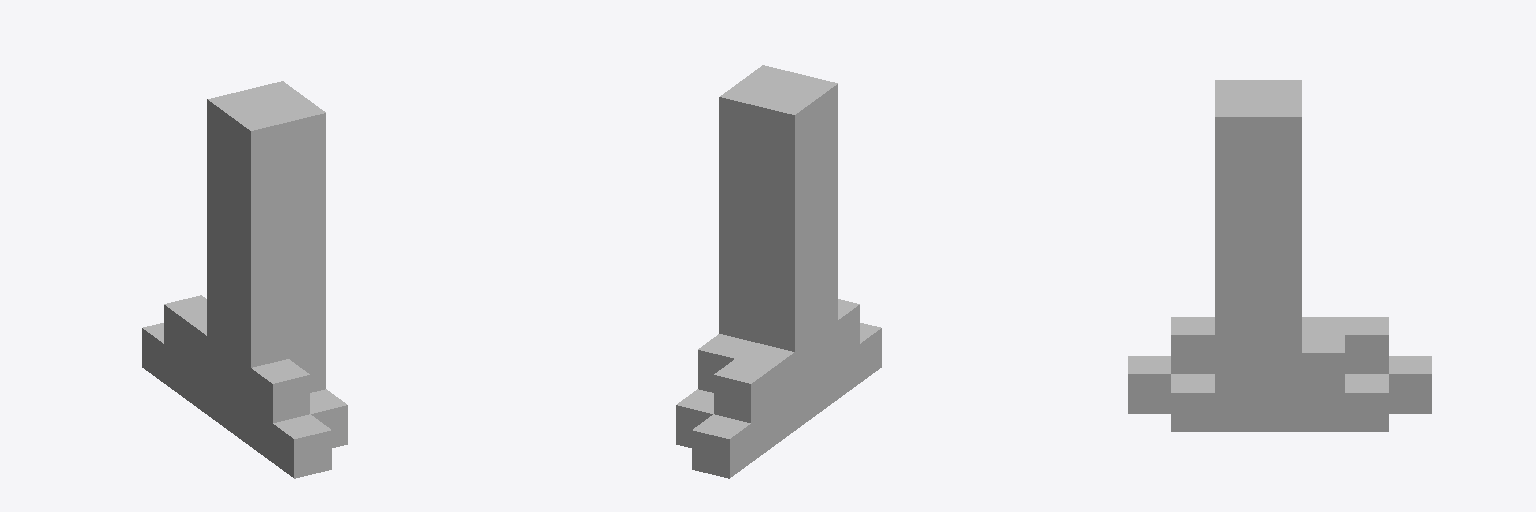
Rendered from JAMBE-R.obj.
3 renders of one model, left to right at view 1: azimuth 30°, elevation 25°; view 2: azimuth 150°, elevation 25°; view 3: azimuth 270°, elevation 25°, orthographic.
Visible parts, largest first — view 1: object 1; view 2: object 1; view 3: object 1.
Boxes of the visible parts, <box> form: object 1: <box>142,81,347,478</box>; object 1: <box>676,65,881,478</box>; object 1: <box>1128,80,1431,431</box>.
Size of the model in its own units: 0.2 by 0.8 by 0.7.